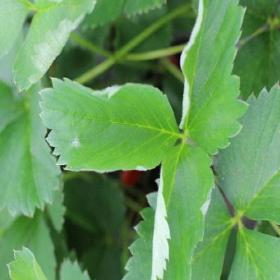Powdery Mildew Leaf: (38, 76, 181, 173), (179, 0, 250, 157), (151, 142, 215, 279), (11, 0, 97, 93)
